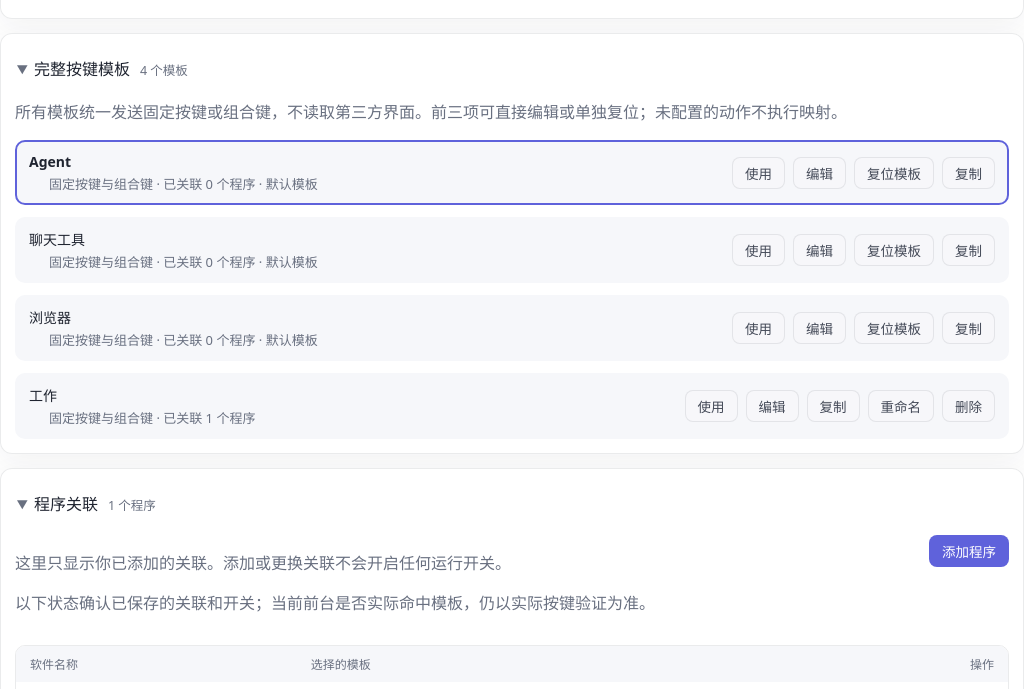
Scenario: templates page › leaves the active highlight unchanged when using a template fails
(page scrolled)
Click the button "使用" in the row of "固定按键与组合键 · 已关联 1 个程序" at {"x": 711, "y": 406}, box [684,390,738,422]
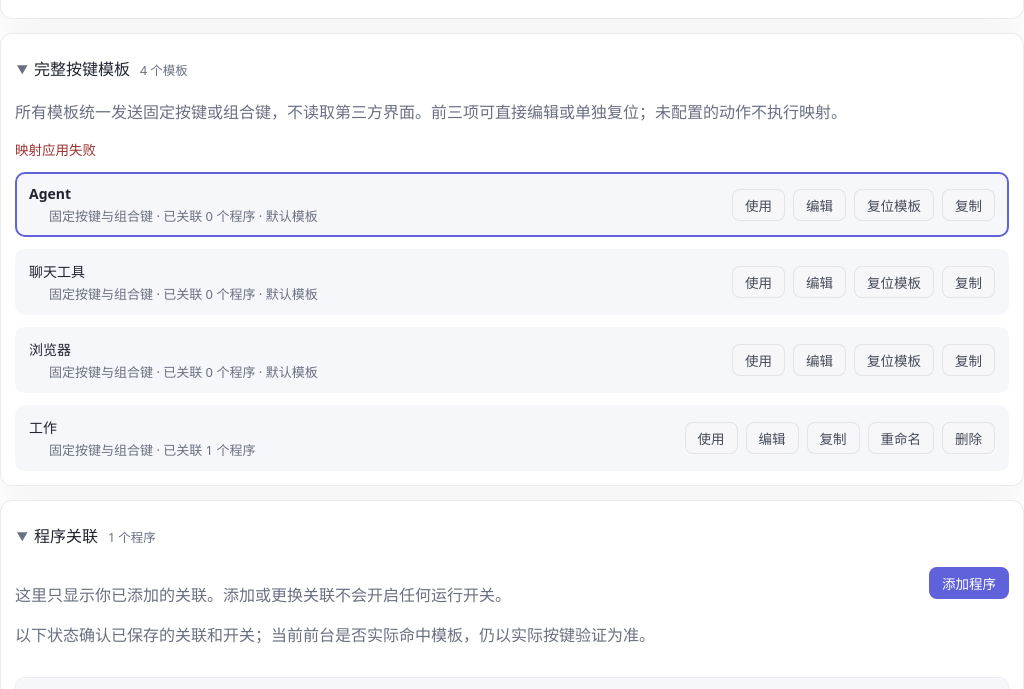
Check: the text "Agent" is shown, box [29,184,71,203]
Check: the text "映射应用失败" is shown, box [15,141,96,159]
